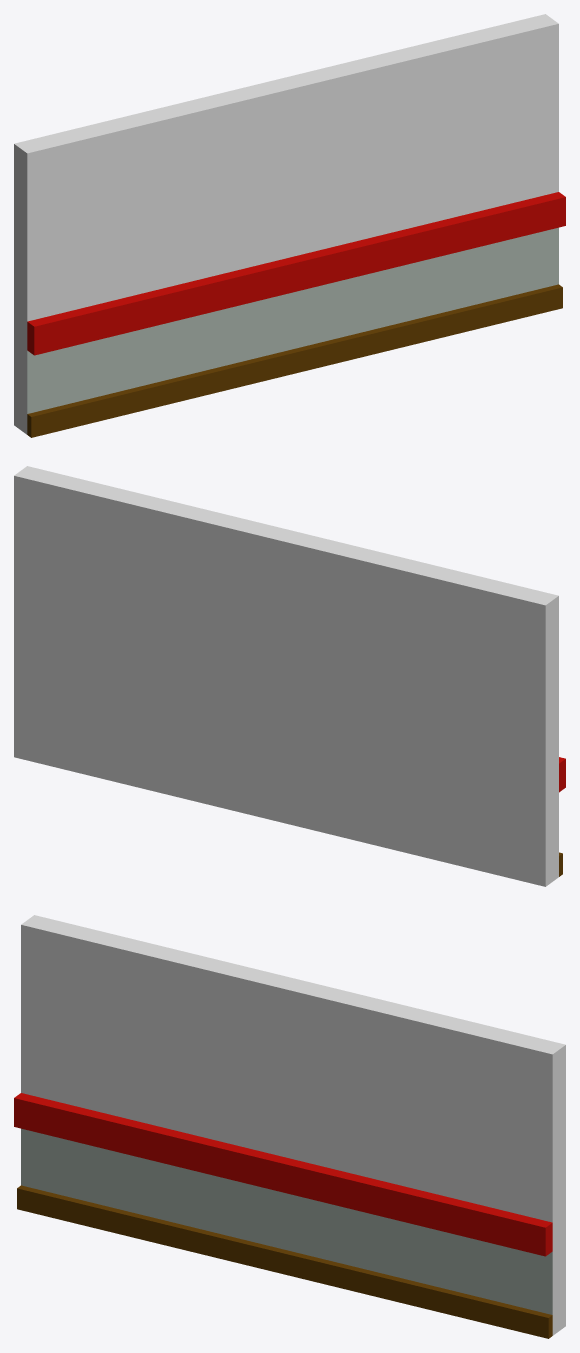
File: H_Wall_Big_Reception.fbx
The picture shows the model from 3 angles, top to bottom: view 1: azimuth 30°, elevation 25°; view 2: azimuth 150°, elevation 25°; view 3: azimuth 330°, elevation 25°; orthographic projection.
Parts seen in each view (by area): view 1: H_Wall_Big_Reception; view 2: H_Wall_Big_Reception; view 3: H_Wall_Big_Reception.
Boxes of the visible parts, left/top/right/bottom form: H_Wall_Big_Reception: left=14, top=14, right=565, bottom=437; H_Wall_Big_Reception: left=14, top=466, right=565, bottom=886; H_Wall_Big_Reception: left=14, top=915, right=565, bottom=1338.
Bounding box in the file's own units: 3000 × 199 × 1518.
